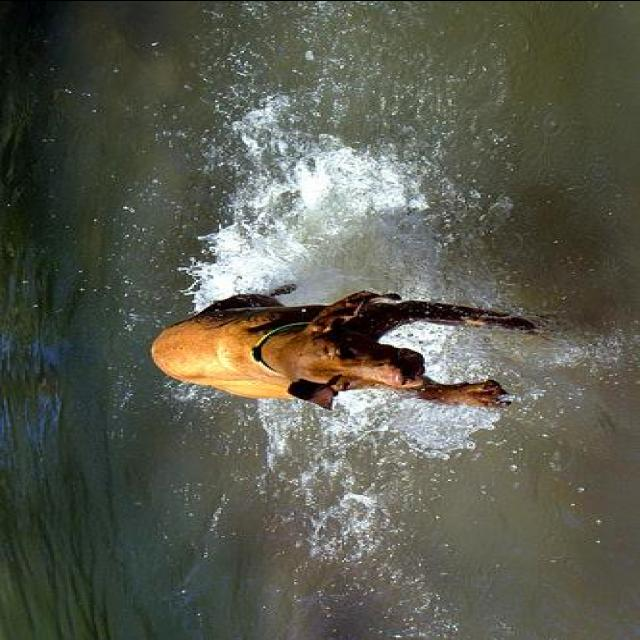vizsla: (144, 279, 565, 411)
